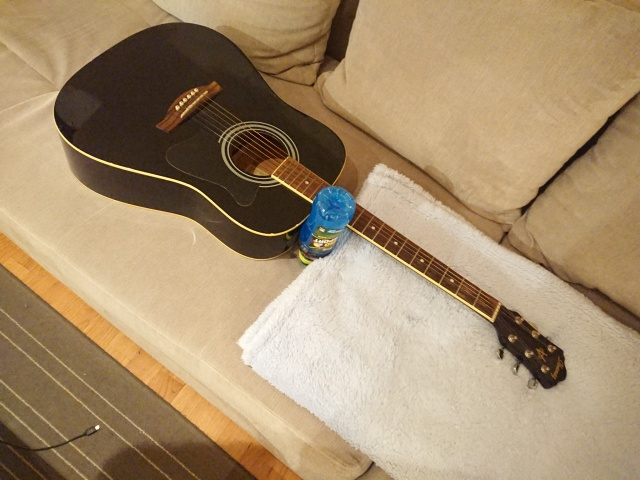Vindi Iso Sport Forest Strawberries 500mL: (295, 183, 357, 266)
